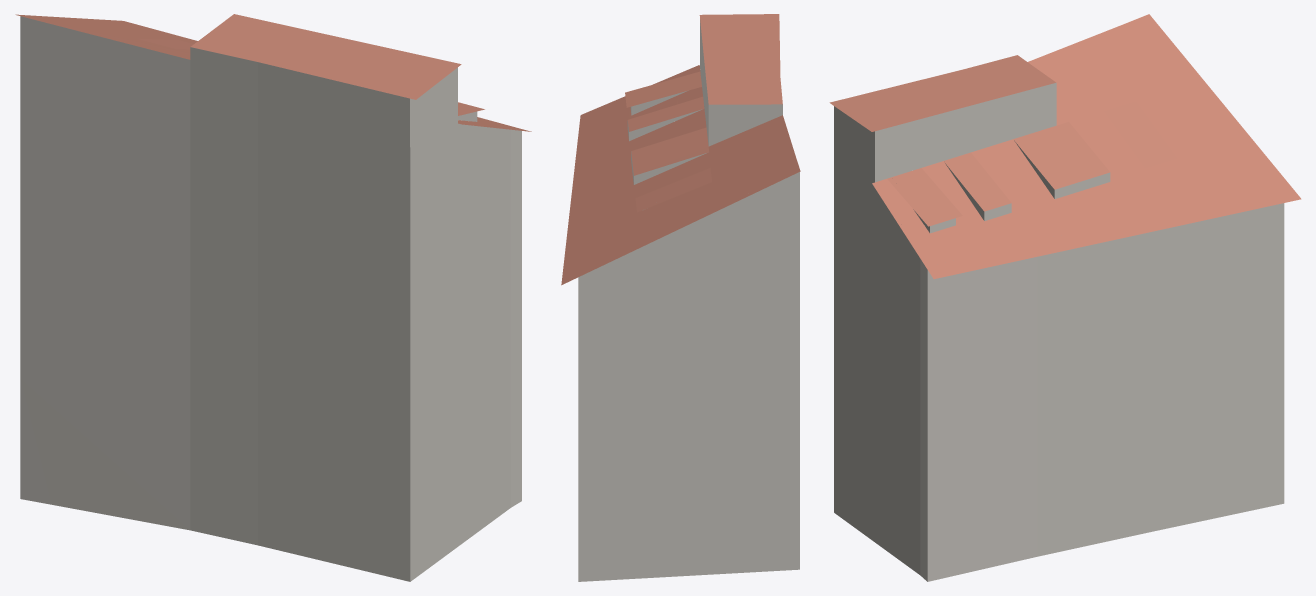
3 views of the same model, side by side, from view 1: azimuth 30°, elevation 25°; view 2: azimuth 150°, elevation 25°; view 3: azimuth 270°, elevation 25° (orthographic). The views are drawn at different scales.
Parts seen in each view (by area): view 1: swisstopo:swissbuildings3d:00dba57e-1596-48a2-a5ad-b9342b2cd; view 2: swisstopo:swissbuildings3d:00dba57e-1596-48a2-a5ad-b9342b2cd; view 3: swisstopo:swissbuildings3d:00dba57e-1596-48a2-a5ad-b9342b2cd.
Boxes of the visible parts, <box> form: swisstopo:swissbuildings3d:00dba57e-1596-48a2-a5ad-b9342b2cd: <box>15,14,531,581</box>; swisstopo:swissbuildings3d:00dba57e-1596-48a2-a5ad-b9342b2cd: <box>561,14,800,581</box>; swisstopo:swissbuildings3d:00dba57e-1596-48a2-a5ad-b9342b2cd: <box>829,14,1301,581</box>.
Bounding box in the file's own units: 18.89 × 22.26 × 23.17.
